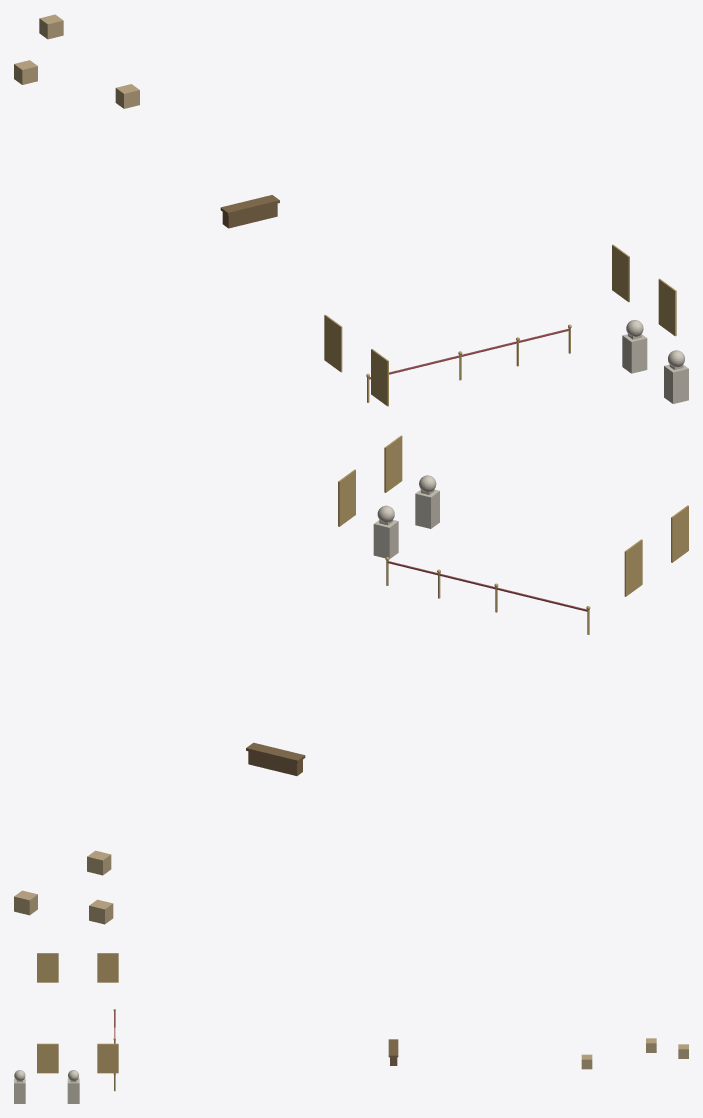
The model's file is collection.glb.
3 views of the same model, one above another, from view 1: azimuth 30°, elevation 25°; view 2: azimuth 150°, elevation 25°; view 3: azimuth 270°, elevation 25° (orthographic). The views are drawn at different scales.
Visible parts, largest first — view 1: plinth.001, siderail.003, siderail, plinth, siderail.002, siderail.001, vbenchbase; view 2: plinth.001, siderail, siderail.003, plinth, siderail.002, siderail.001, vbenchbase; view 3: siderail.002, siderail.003, siderail, siderail.001, plinth.001, plinth.
Part boxes in pixels (x1,y1,x2,y2): plinth.001: (622,334,647,373); siderail.003: (658,278,676,336); siderail: (324,314,342,372); plinth: (664,364,688,403); siderail.002: (612,244,629,302); siderail.001: (371,349,388,406); vbenchbase: (222,203,277,228); plinth.001: (373,520,398,559); siderail: (624,539,642,596); siderail.003: (384,435,402,492); plinth: (415,489,439,528); siderail.002: (338,469,355,526); siderail.001: (671,505,688,562); vbenchbase: (248,751,302,775); siderail.002: (97,1043,118,1073); siderail.003: (37,1043,58,1073); siderail: (97,953,118,982); siderail.001: (37,953,58,982); plinth.001: (67,1078,79,1103); plinth: (14,1078,25,1103).
Size of the model in its own units: 10.03 by 3.16 by 31.42.
